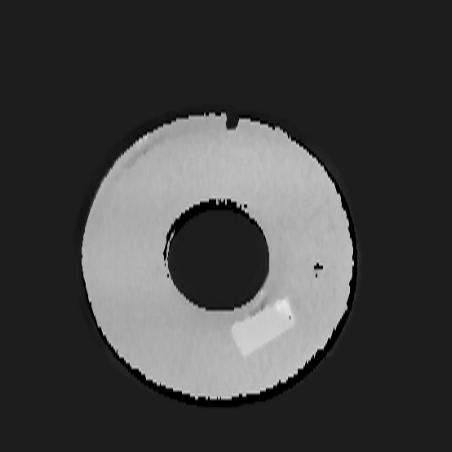defect: (313, 260, 324, 280)
